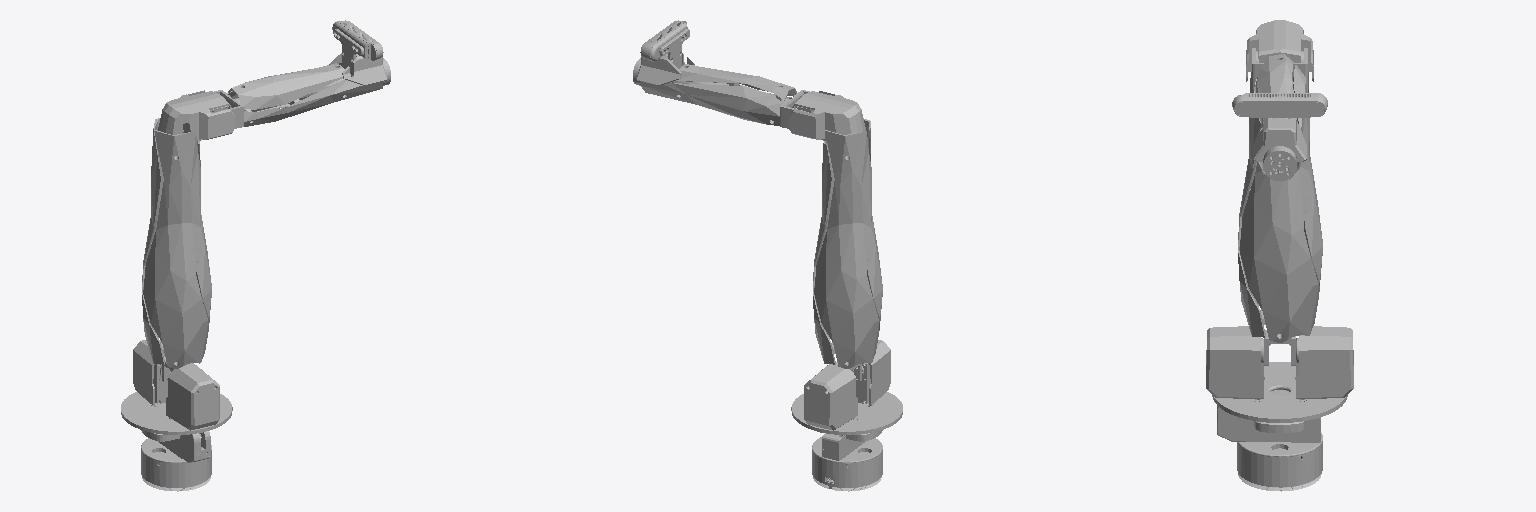
URDF robot description (QARM):
<?xml version="1.0" encoding="utf-8"?>
<!-- This URDF was automatically created by SolidWorks to URDF Exporter! Originally created by [author] ([email redacted]) 
     Commit Version: 1.5.1-0-g916b5db  Build Version: 1.5.7152.31018
     For more information, please see http://wiki.ros.org/sw_urdf_exporter -->
<!--
    ###################################################################################################################
    Note that all mass/inertial values are examples values only. They are not representative of the actual components.
    ###################################################################################################################
-->

<robot name="QARM">
  <link name="world"/>
	<joint name="world_base_joint" type="fixed">
        <origin rpy="0 0 0" xyz="0 0 0"/>
        <parent link="world"/>
        <child link="base_link"/>
    </joint>
  <link name="base_link">
    <inertial>
      <origin
        xyz="0.000529200576288575 -2.23307396420992E-06 0.0267852902177001"
        rpy="0 0 0" />
      <mass
        value="3.89847036294307" />
      <inertia
        ixx="0.0259717926187233"
        ixy="7.41706820354147E-07"
        ixz="-9.20327430275286E-08"
        iyy="0.0237418182185852"
        iyz="6.90408382921997E-11"
        izz="0.048730018421969" />
    </inertial>
    <visual>
      <origin
        xyz="0 0 0"
        rpy="0 0 0" />
      <geometry>
        <mesh
          filename="package://meshes/base_link.STL"/>
      </geometry>
      <material
        name="">
        <color
          rgba="0.752941176470588 0.752941176470588 0.752941176470588 1"/>
      </material>
    </visual>
    <collision>
      <origin
        xyz="0 0 0"
        rpy="0 0 0" />
      <geometry>
        <mesh
          filename="package://meshes/base_link.STL"/>
      </geometry>
    </collision>
  </link>
  <link
    name="YAW">
    <inertial>
      <origin
        xyz="9.37418676855843E-09 -3.48810780368004E-09 0.115813977186301"
        rpy="0 0 0" />
      <mass
        value="0.701518504018672" />
      <inertia
        ixx="0.000478980181395404"
        ixy="3.49149750193703E-12"
        ixz="5.35348095946474E-11"
        iyy="0.000450830880977554"
        iyz="9.21997569253762E-11"
        izz="0.000625067532631923" />
    </inertial>
    <visual>
      <origin
        xyz="0 0 0"
        rpy="0 0 0" />
      <geometry>
        <mesh
          filename="package://meshes/YAW.STL" />
      </geometry>
      <material
        name="">
        <color
          rgba="0.752941176470588 0.752941176470588 0.752941176470588 1" />
      </material>
    </visual>
    <collision>
      <origin
        xyz="0 0 0"
        rpy="0 0 0" />
      <geometry>
        <mesh
          filename="package://meshes/YAW.STL" />
      </geometry>
    </collision>
  </link>
  <joint
    name="YAW"
    type="revolute">
    <origin
      xyz="0 0 0"
      rpy="0 0 0" />
    <parent
      link="base_link" />
    <child
      link="YAW" />
    <axis
      xyz="0 0 1" />
    <limit
      lower="-2.967"
      upper="2.967"
      effort="0"
      velocity="0" />
  </joint>
  <link
    name="BICEP">
    <inertial>
      <origin
        xyz="0.0136584263393359 -0.234778864037209 -7.06001931450219E-05"
        rpy="0 0 0" />
      <mass
        value="0.706073338310231" />
      <inertia
        ixx="0.00242444522090698"
        ixy="2.42682372909241E-06"
        ixz="-6.26703067273348E-07"
        iyy="0.000274342515078279"
        iyz="1.69726051287685E-06"
        izz="0.00246773570290634" />
    </inertial>
    <visual>
      <origin
        xyz="0 0 0"
        rpy="0 0 0" />
      <geometry>
        <mesh
          filename="package://meshes/BICEP.STL" />
      </geometry>
      <material
        name="">
        <color
          rgba="0.752941176470588 0.752941176470588 0.752941176470588 1" />
      </material>
    </visual>
    <collision>
      <origin
        xyz="0 0 0"
        rpy="0 0 0" />
      <geometry>
        <mesh
          filename="package://meshes/BICEP.STL" />
      </geometry>
    </collision>
  </link>
  <joint
    name="SHOULDER"
    type="revolute">
    <origin
      xyz="0 0 0.1397714"
      rpy="-1.5707963267949 0 0" />
    <parent
      link="YAW" />
    <child
      link="BICEP" />
    <axis
      xyz="0 0 1" />
    <limit
      lower="-1.483"
      upper="1.483"
      effort="0"
      velocity="0" />
  </joint>
  <link
    name="FOREARM">
    <inertial>
      <origin
        xyz="0.0372712542033594 0.155357218514742 0.000271723941997439"
        rpy="0 0 0" />
      <mass
        value="0.4296669212638" />
      <inertia
        ixx="0.000344487673462402"
        ixy="-2.89506781372207E-05"
        ixz="4.98141800994188E-07"
        iyy="0.000149695456153606"
        iyz="2.97325983931059E-06"
        izz="0.000297718151262944" />
    </inertial>
    <visual>
      <origin
        xyz="0 0 0"
        rpy="0 0 0" />
      <geometry>
        <mesh
          filename="package://meshes/FOREARM.STL" />
      </geometry>
      <material
        name="">
        <color
          rgba="0.752941176470588 0.752941176470588 0.752941176470588 1" />
      </material>
    </visual>
    <collision>
      <origin
        xyz="0 0 0"
        rpy="0 0 0" />
      <geometry>
        <mesh
          filename="package://meshes/FOREARM.STL" />
      </geometry>
    </collision>
  </link>
  <joint
    name="ELBOW"
    type="revolute">
    <origin
      xyz="0.0500000000000004 -0.350000000000015 0"
      rpy="0 0 -1.42889927219074" />
    <parent
      link="BICEP" />
    <child
      link="FOREARM" />
    <axis
      xyz="0 0 1" />
    <limit
      lower="-1.658"
      upper="1.309"
      effort="0"
      velocity="0" />
  </joint>
  <link
    name="END-EFFECTOR">
    <inertial>
      <origin
        xyz="-7.14013714436801E-05 -4.06287319420589E-05 0.0057237846257307"
        rpy="0 0 0" />
      <mass
        value="0.025331269641348" />
      <inertia
        ixx="2.26806595610621E-06"
        ixy="7.98741449900658E-09"
        ixz="1.08626792635935E-08"
        iyy="2.22929725748166E-06"
        iyz="-5.49899749477752E-09"
        izz="4.00602755679902E-06" />
    </inertial>
    <visual>
      <origin
        xyz="0 0 0"
        rpy="0 0 0" />
      <geometry>
        <mesh
          filename="package://meshes/END-EFFECTOR.STL" />
      </geometry>
      <material
        name="">
        <color
          rgba="0.752941176470588 0.752941176470588 0.752941176470588 1" />
      </material>
    </visual>
    <collision>
      <origin
        xyz="0 0 0"
        rpy="0 0 0" />
      <geometry>
        <mesh
          filename="package://meshes/END-EFFECTOR.STL" />
      </geometry>
    </collision>
  </link>
  <joint
    name="WRIST"
    type="revolute">
    <origin
      xyz="0.0336611536380097 0.235607569369425 0"
      rpy="-1.5707963267949 0 -0.141897054604159" />
    <parent
      link="FOREARM" />
    <child
      link="END-EFFECTOR" />
    <axis
      xyz="0 0 1" />
    <limit
      lower="-3.010"
      upper="3.010"
      effort="0"
      velocity="0" />
  </joint>
</robot>

--- What the picture shows (computed from the rendered views, not written in the file) ---
The picture shows the robot from 3 angles, left to right: view 1: azimuth 30°, elevation 25°; view 2: azimuth 150°, elevation 25°; view 3: azimuth 270°, elevation 25°; orthographic projection.
Robot: QARM — 6 links, 5 joints (4 revolute, 1 fixed); root link world; default pose: all joints at 0.
Links seen in each view (by area): view 1: BICEP, FOREARM, YAW, base_link; view 2: BICEP, FOREARM, YAW, base_link; view 3: BICEP, YAW, base_link, FOREARM, END-EFFECTOR.
Boxes of the visible links, box(x1,y1,x2,y2) form: BICEP: box(142, 90, 235, 382); FOREARM: box(214, 20, 387, 128); YAW: box(121, 340, 232, 434); base_link: box(141, 430, 211, 491); BICEP: box(788, 91, 882, 382); FOREARM: box(636, 20, 809, 128); YAW: box(791, 340, 902, 434); base_link: box(812, 430, 882, 491); BICEP: box(1238, 20, 1322, 365); YAW: box(1206, 326, 1353, 422); base_link: box(1217, 390, 1322, 491); FOREARM: box(1232, 48, 1327, 179); END-EFFECTOR: box(1263, 146, 1296, 180).
Size in the robot's own frame: 0.3698 by 0.1524 by 0.5525 metres.
5 mesh visuals loaded from 5 distinct referenced files (5 binary STL).